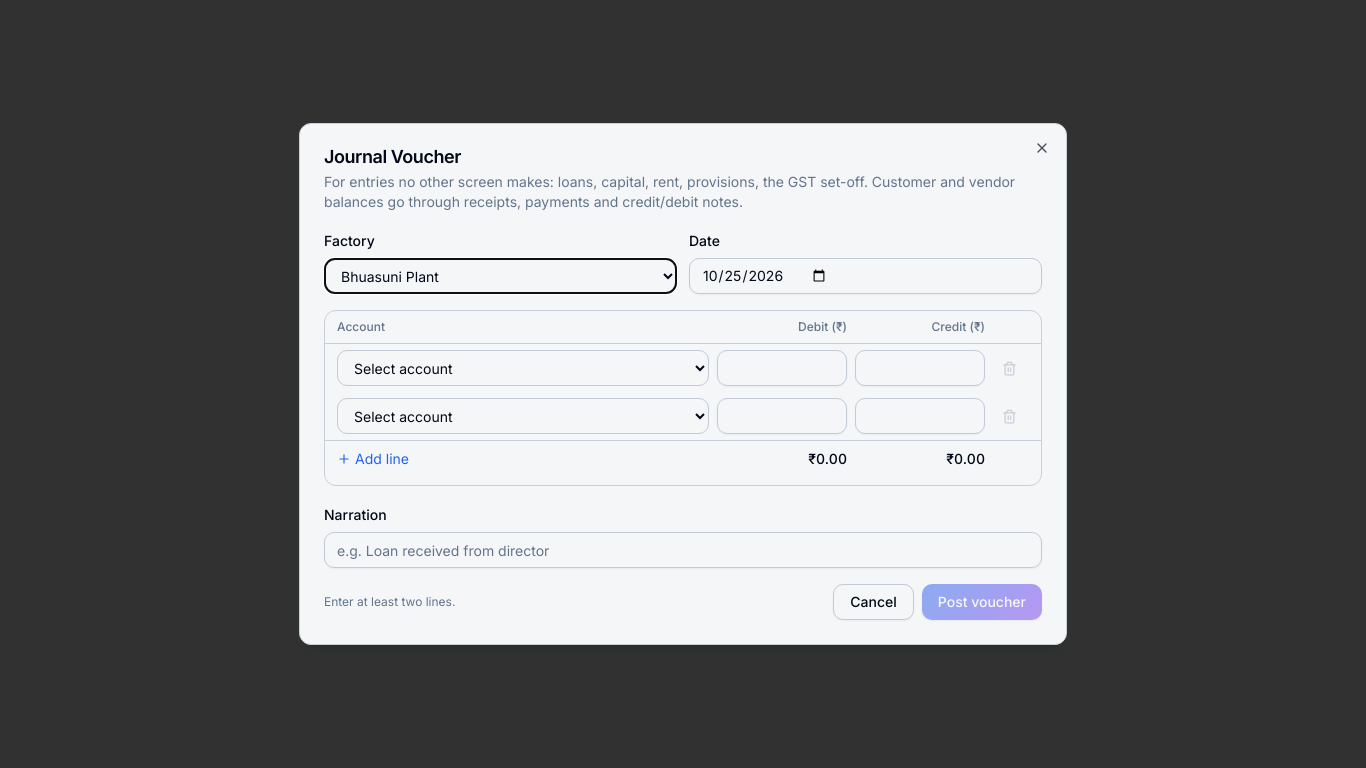
Test: Journal voucher › clears the other side of a line when one side is typed
The image size is (1366, 768).
Step 1. Type "100" into the number field named "Debit line 1" → (782, 368), box [717,350,847,386]
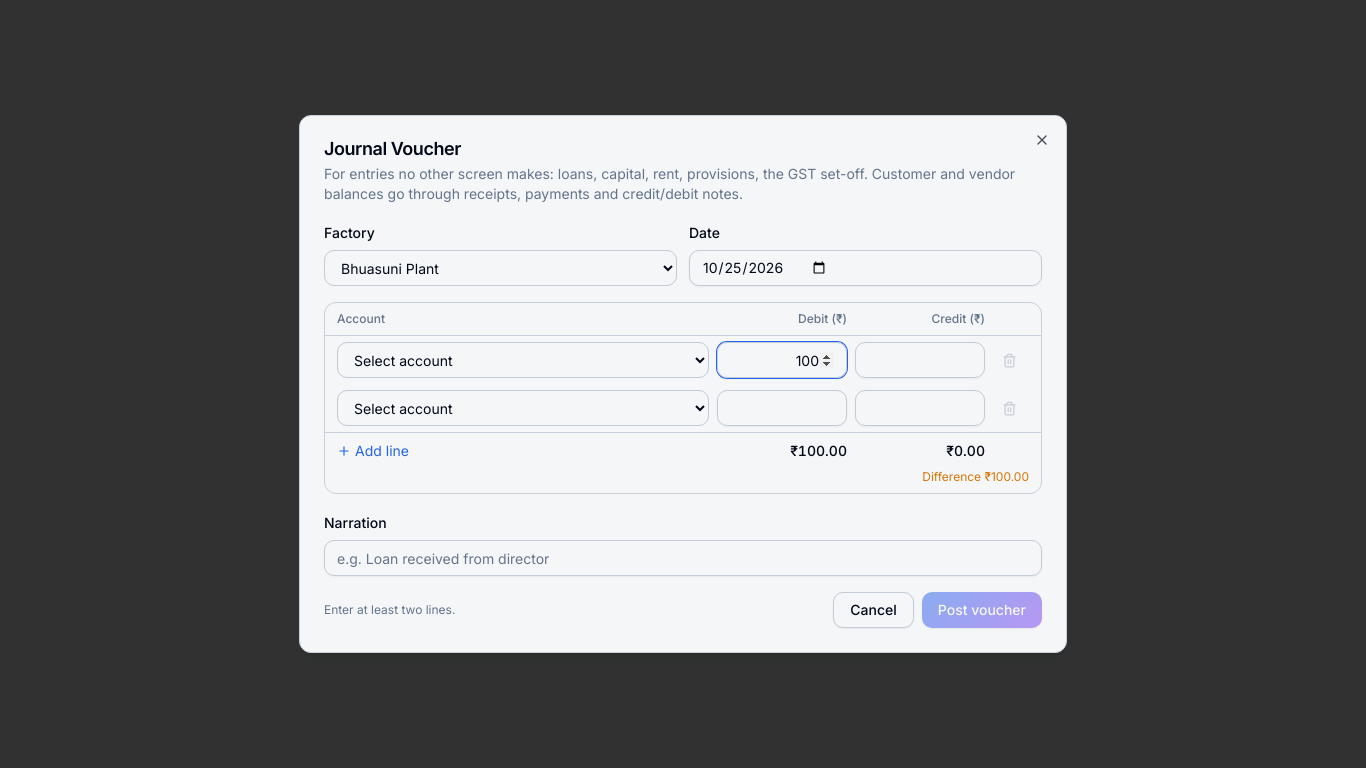
Step 2. Type "50" into the number field named "Credit line 1" → (920, 360), box [855,342,985,378]
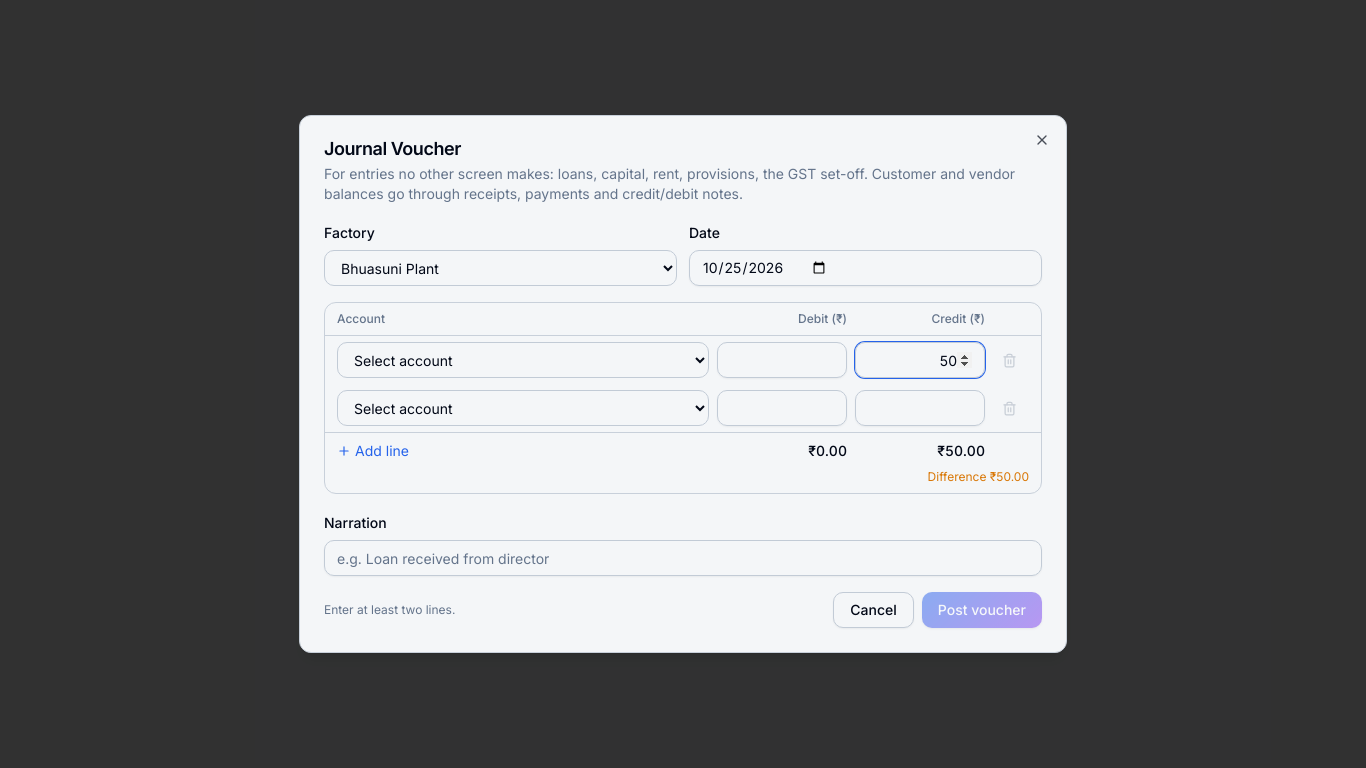
Result: the number field named "Debit line 1" is not empty at [717,342,847,378]
